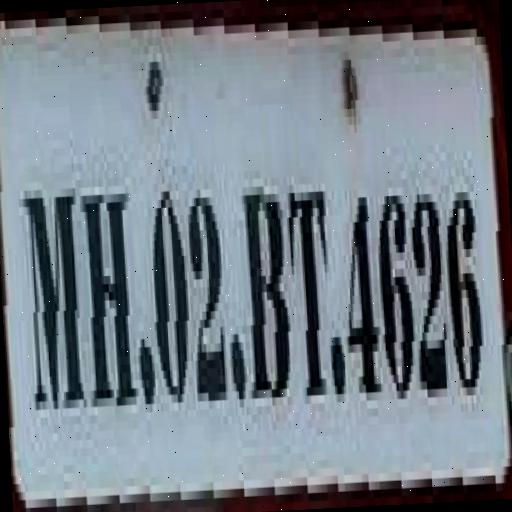number plate: (13, 28, 512, 512)
